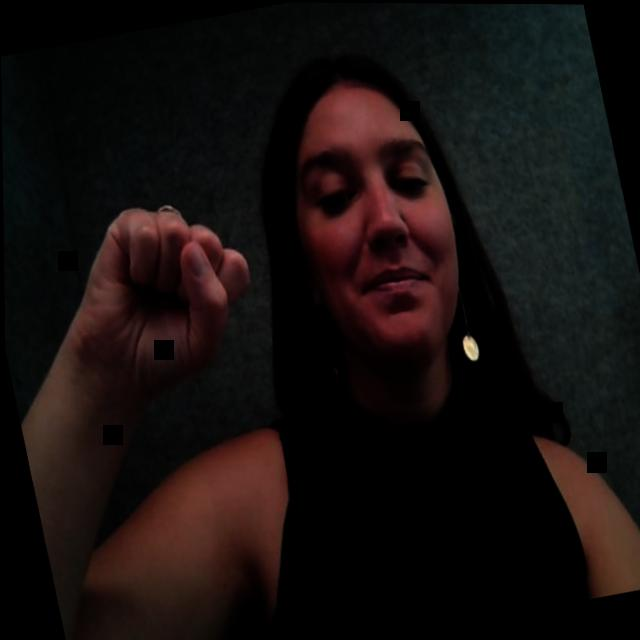Rock: (39, 148, 275, 439)
